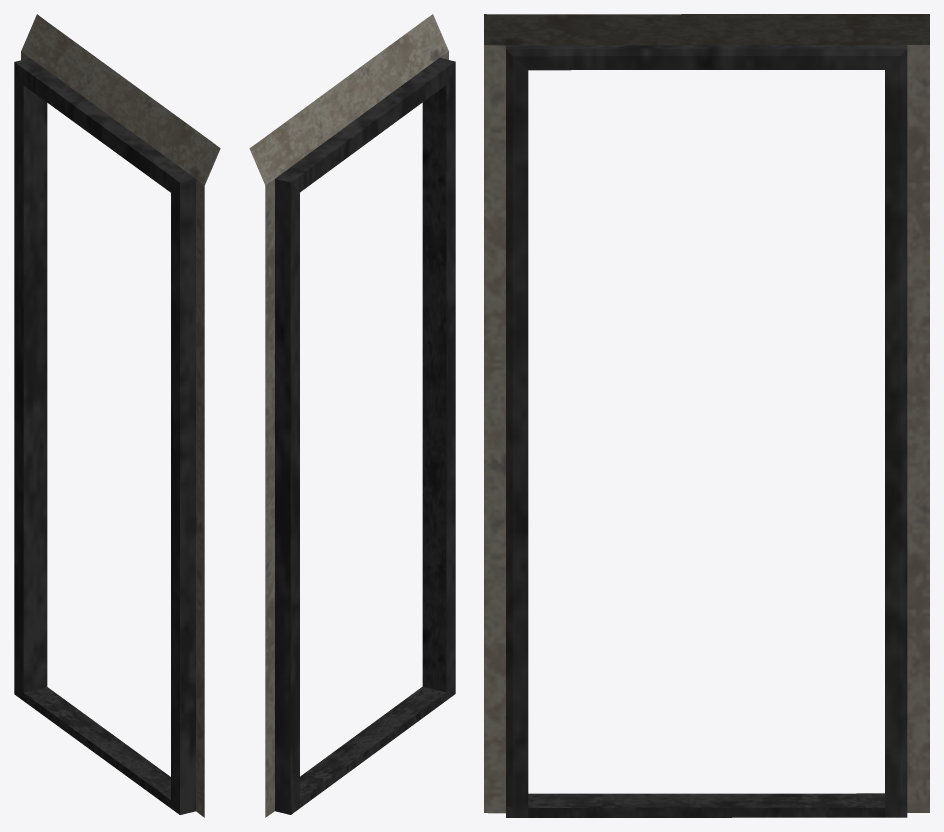
File: SteelwallDoorFrame.fbx
3 renders of one model, left to right at view 1: azimuth 30°, elevation 25°; view 2: azimuth 150°, elevation 25°; view 3: azimuth 270°, elevation 25°, orthographic. The views are drawn at different scales.
Visible parts, largest first — view 1: SteelwallDoorFrame; view 2: SteelwallDoorFrame; view 3: SteelwallDoorFrame.
Part boxes in pixels (box(x1,y1,x2,y2)): SteelwallDoorFrame: box(14, 14, 220, 817); SteelwallDoorFrame: box(249, 14, 455, 817); SteelwallDoorFrame: box(484, 14, 929, 817).
Bounding box in the file's own units: 10.16 × 200 × 100.
